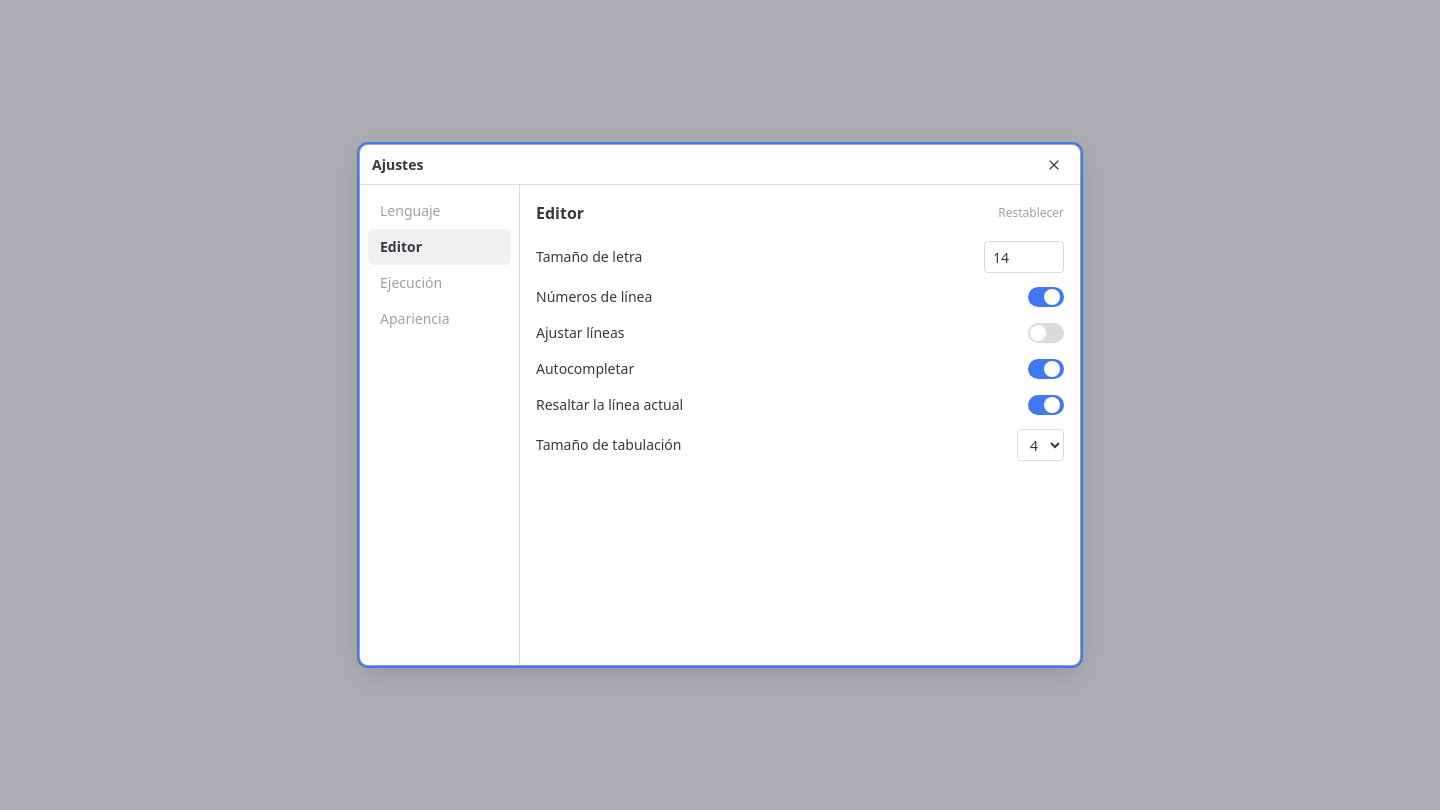
Settings › edits editor, execution and appearance settings immediately
Replace the text in the number field labelled "Tamaño de letra" with "16" at [1024, 257], box [984, 241, 1064, 273]
Click the switch named "Ajustar líneas" at [1046, 333], box [1028, 323, 1064, 343]
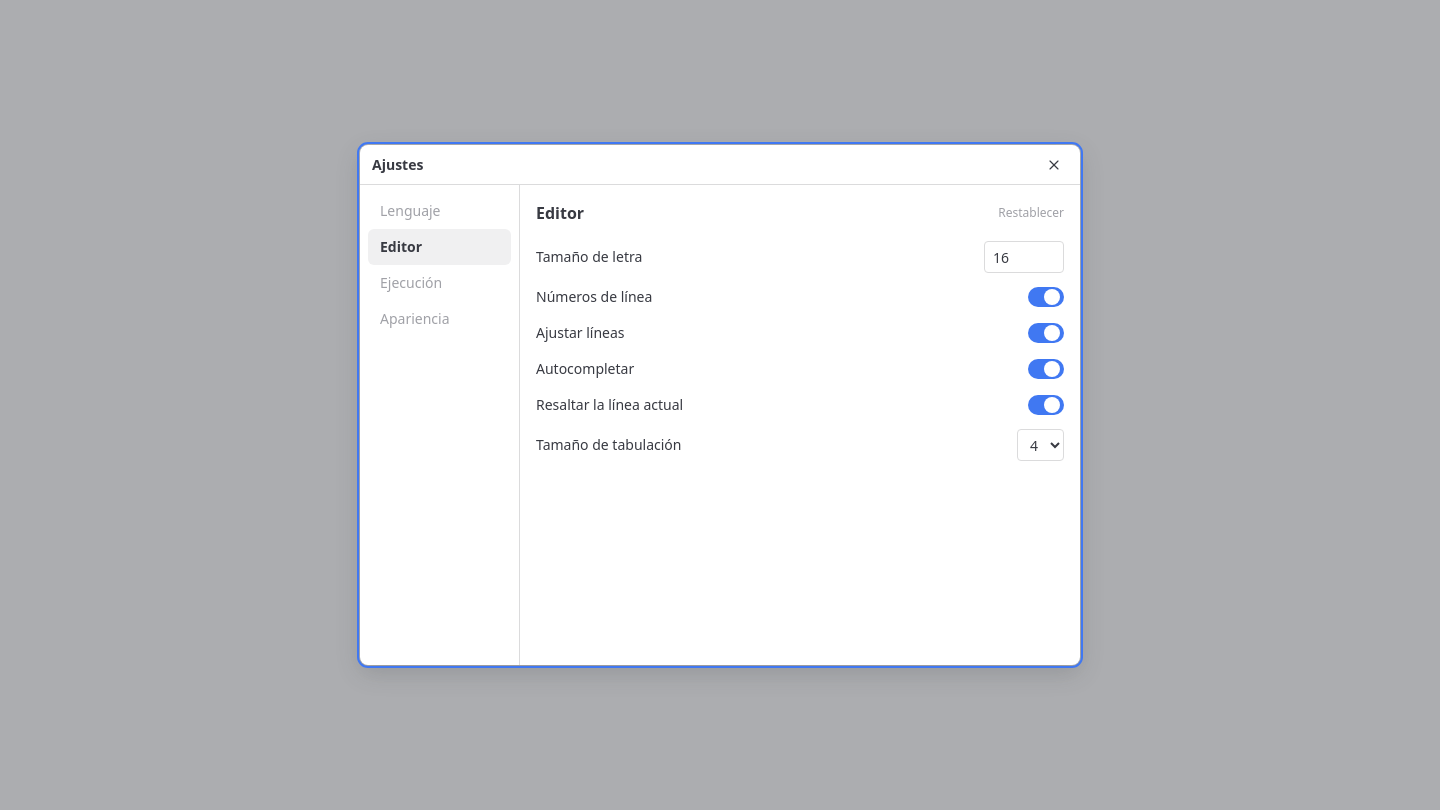
Click the tab "Ejecución" at [440, 283], box [368, 265, 511, 301]
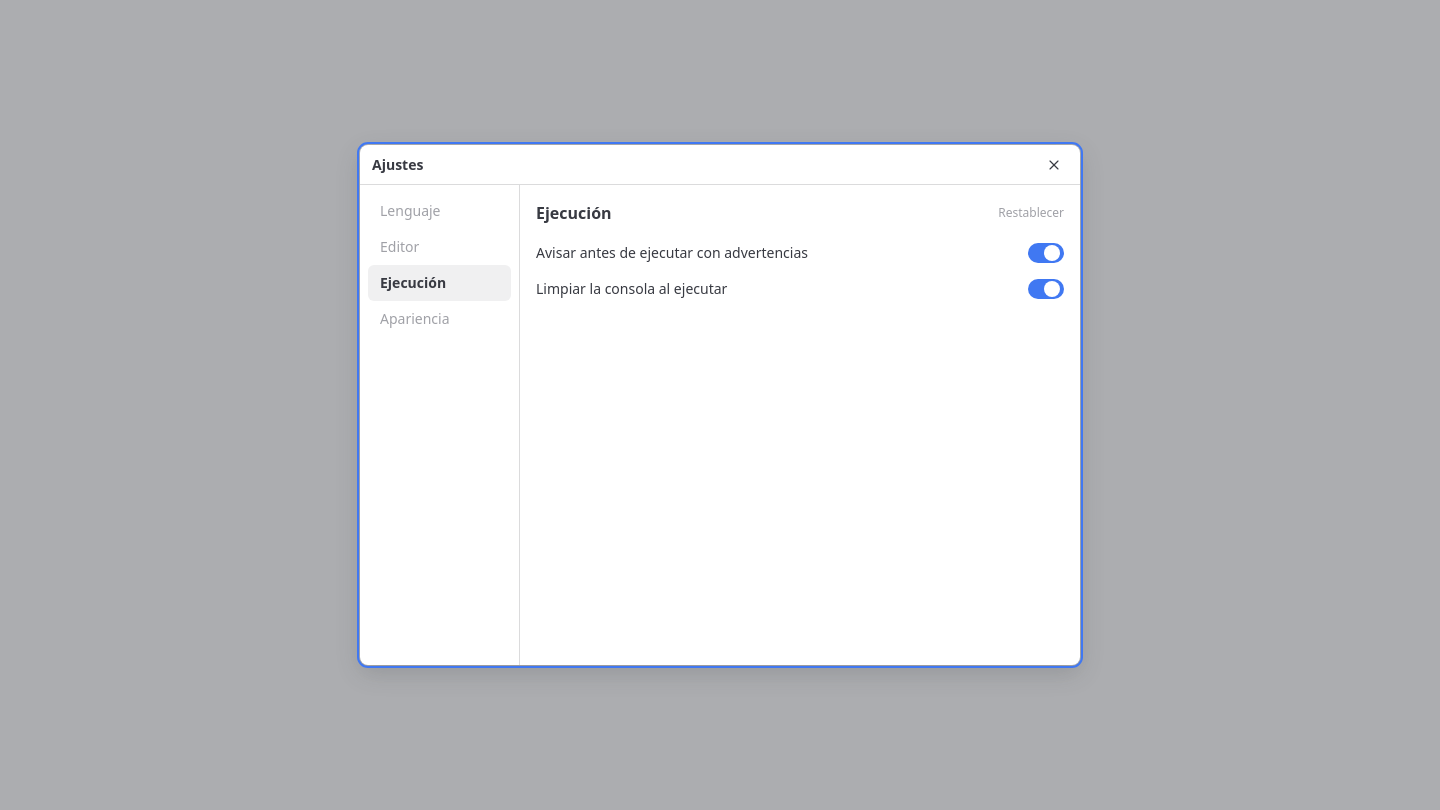
Click the switch named "Limpiar la consola al ejecutar" at [1046, 289], box [1028, 279, 1064, 299]
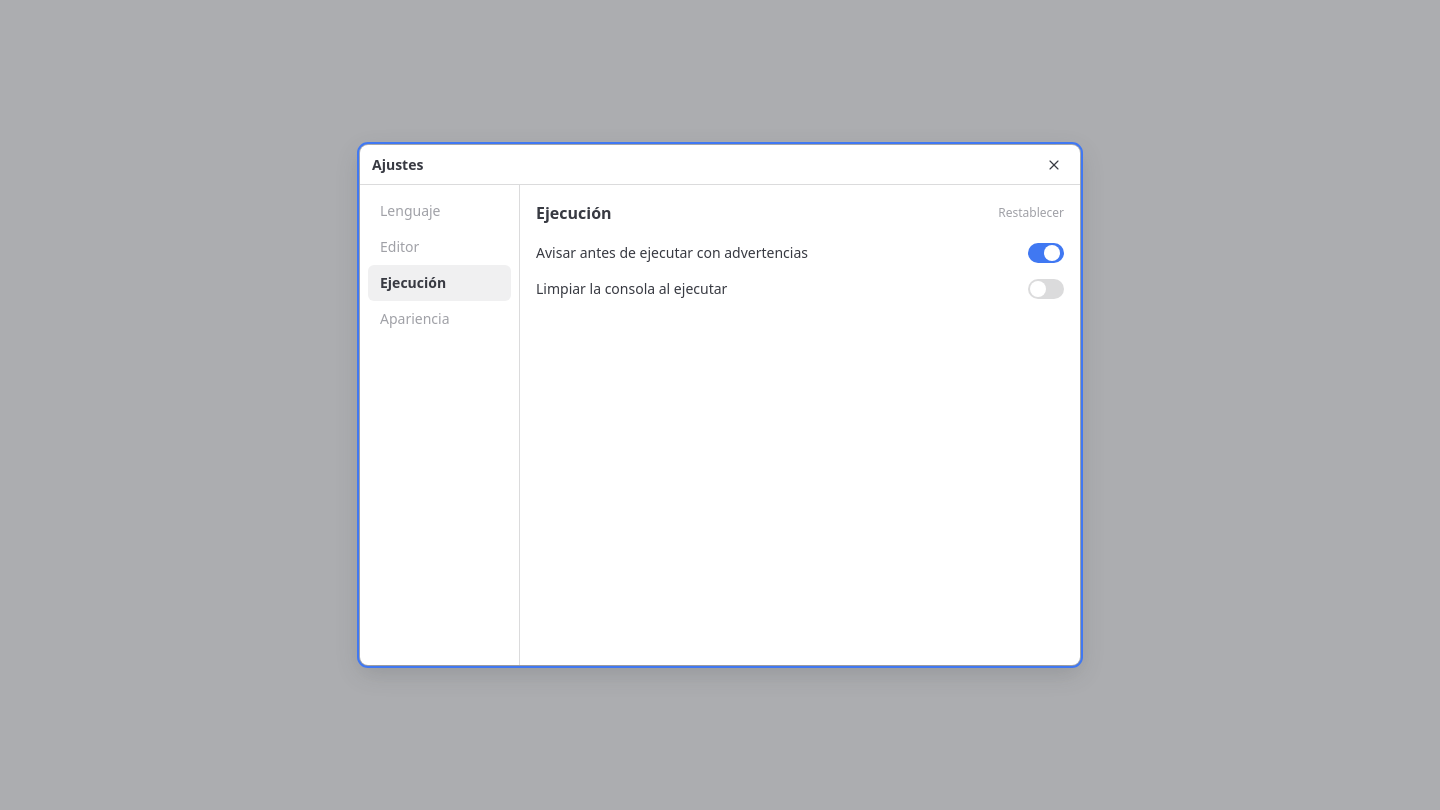
Click the tab "Apariencia" at [440, 319], box [368, 301, 511, 337]
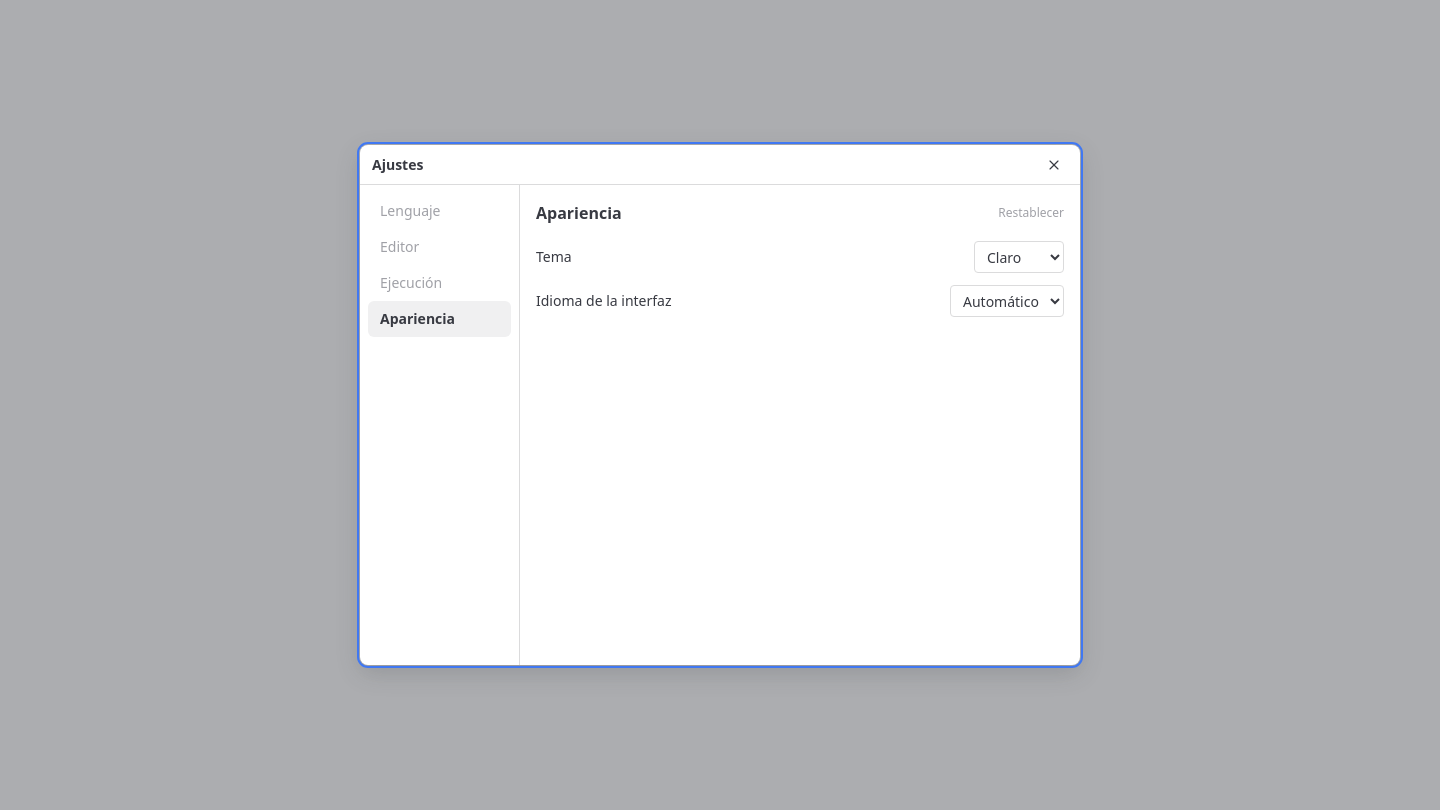
Select "Oscuro" in the dropdown labelled "Tema" at [1019, 257], box [974, 241, 1064, 273]
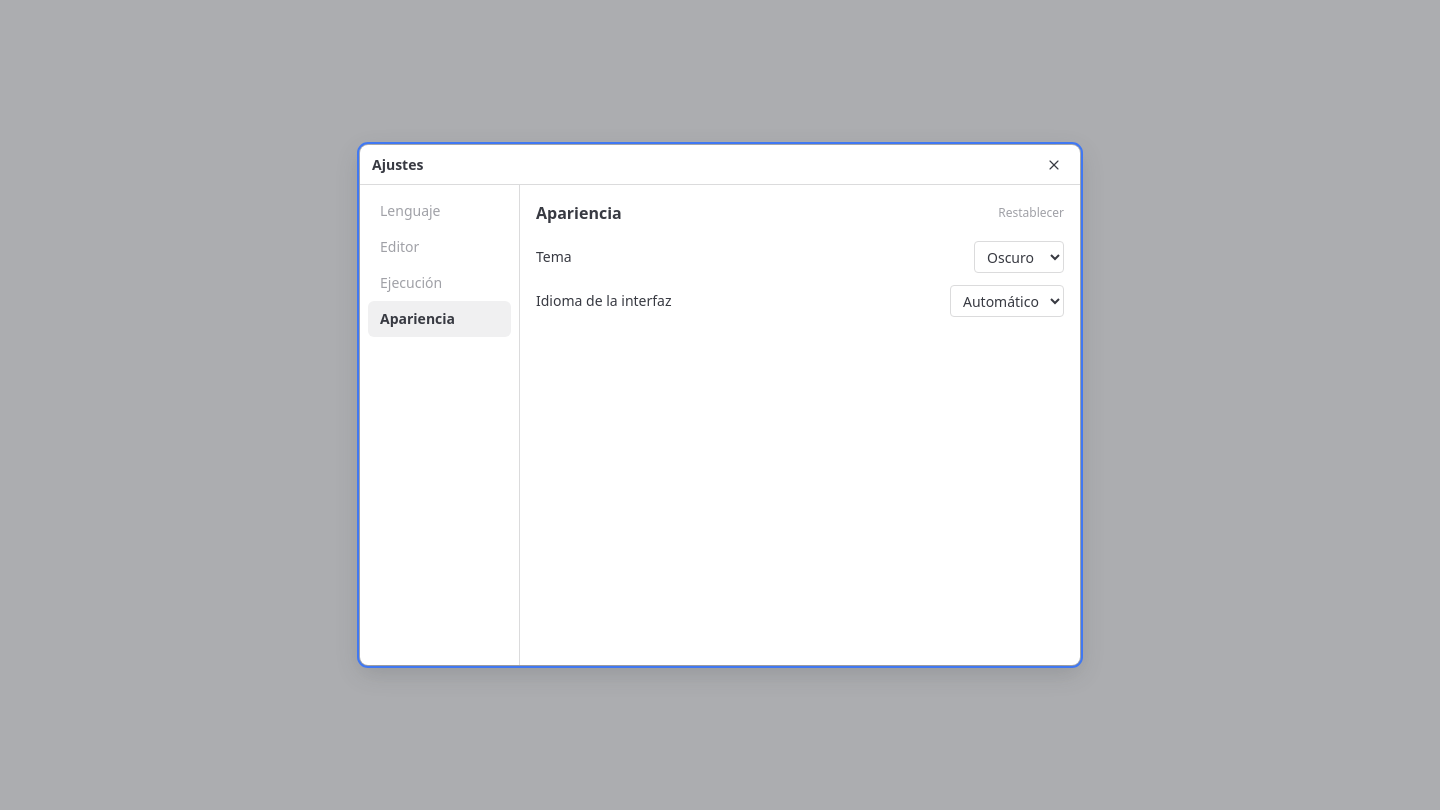
Select "English" in the dropdown labelled "Idioma de la interfaz" at [1007, 301], box [950, 285, 1064, 317]
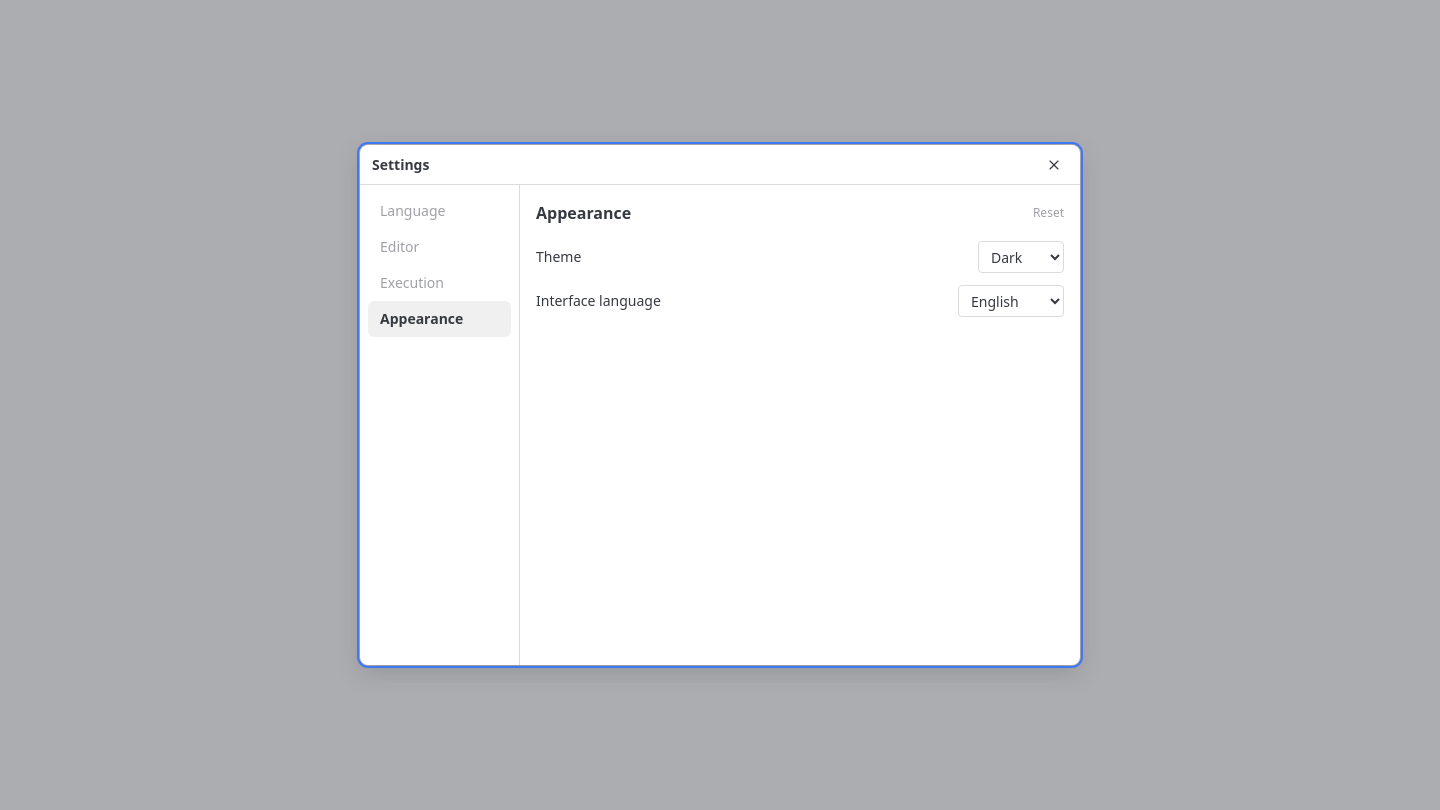
Expected: the dialog "Settings" is shown, [360, 145, 1080, 665]
